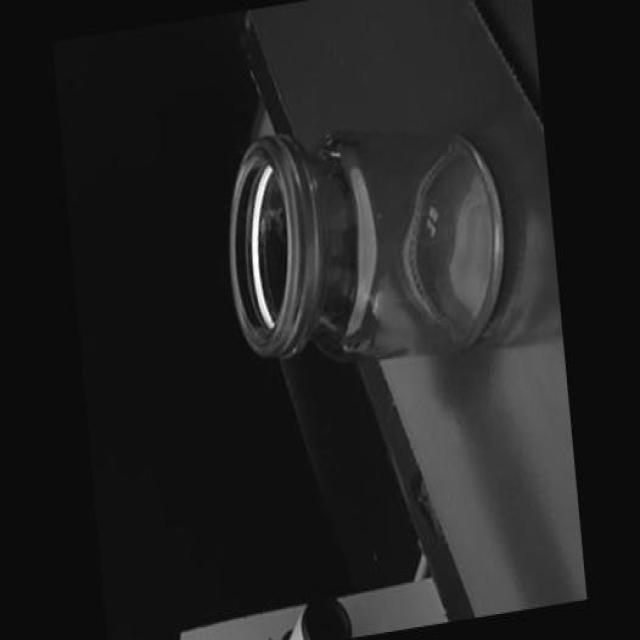defect: (329, 147, 341, 157)
glass: (215, 92, 516, 389)
